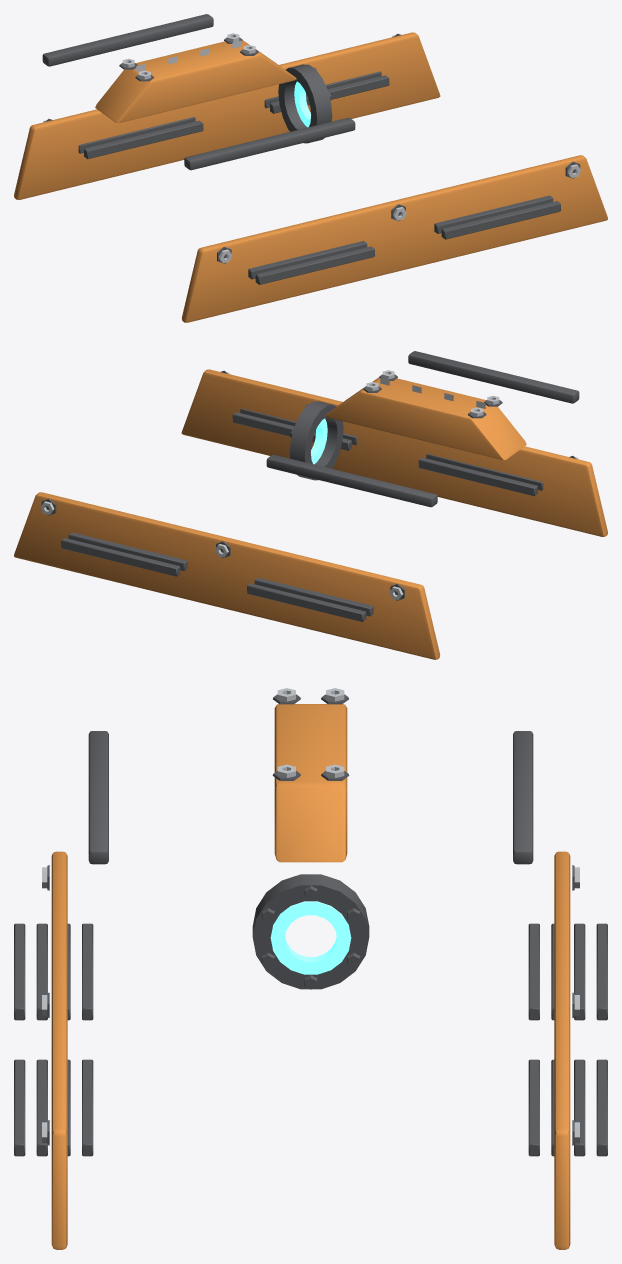
Rendered from cinder_hull.glb.
The picture shows the model from 3 angles, top to bottom: view 1: azimuth 30°, elevation 25°; view 2: azimuth 150°, elevation 25°; view 3: azimuth 270°, elevation 25°; orthographic projection. The views are drawn at different scales.
Visible parts, largest first — view 1: overlay; view 2: overlay; view 3: overlay.
Part boxes in pixels (x1,y1,x2,y2): overlay: (14, 14, 607, 322); overlay: (14, 351, 607, 659); overlay: (14, 688, 607, 1249).
Bounding box in the file's own units: 0.7291 × 0.306 × 0.5908.
